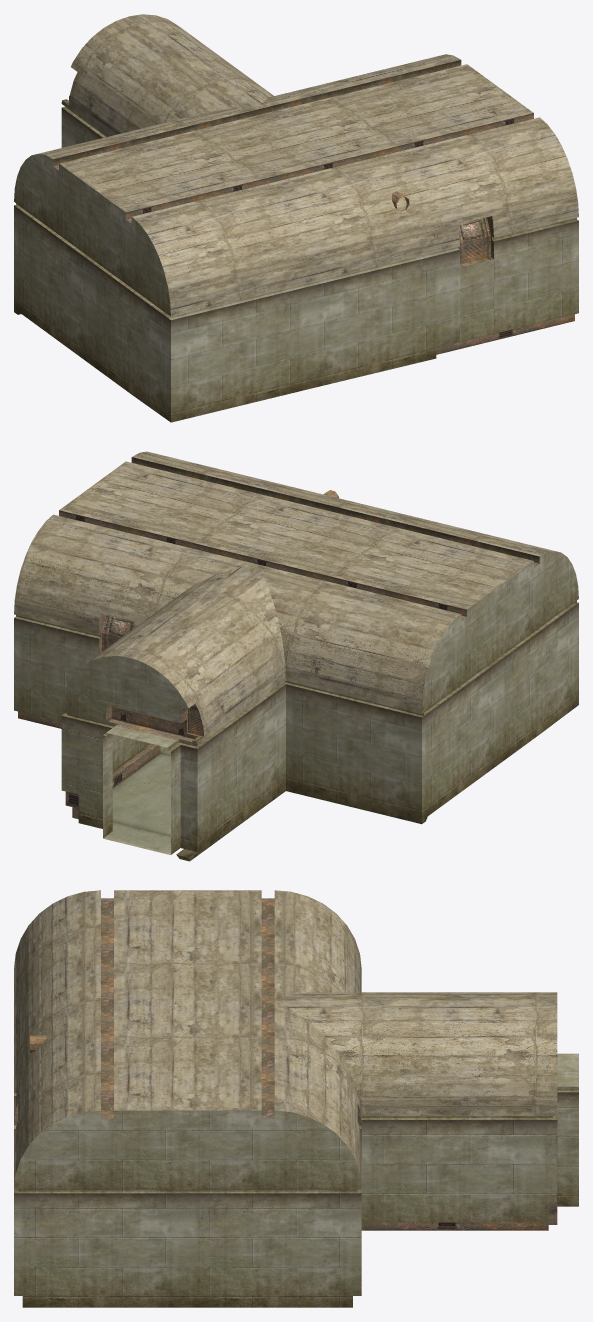
File: poi_all_bunker_mad_bio_s01_r22_bedroom_mesh_r22.fbx
The picture shows the model from 3 angles, top to bottom: view 1: azimuth 30°, elevation 25°; view 2: azimuth 150°, elevation 25°; view 3: azimuth 270°, elevation 25°; orthographic projection. The views are drawn at different scales.
Parts seen in each view (by area): view 1: mesh_node; view 2: mesh_node; view 3: mesh_node.
Boxes of the visible parts, x1,y1,x2,y2 form: mesh_node: (14,14,578,422); mesh_node: (14,451,578,861); mesh_node: (14,890,578,1307).
Size of the model in its own units: 12 by 5.1 by 13.
